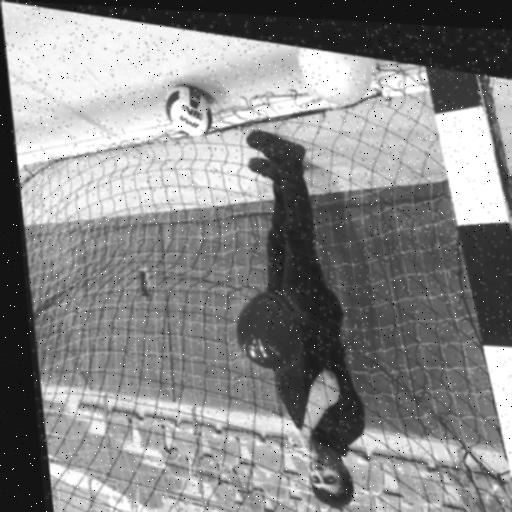balloon: (228, 280, 305, 371), (296, 39, 383, 109)
